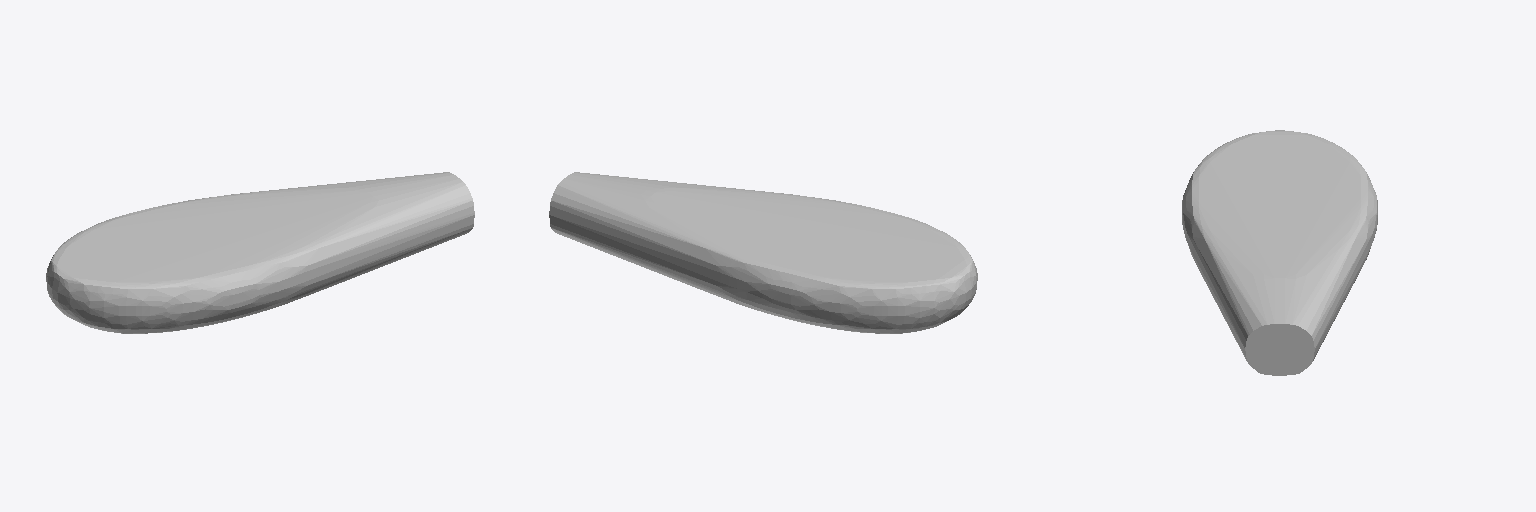
File: wooden-spoon_collision_1.obj
3 renders of one model, left to right at view 1: azimuth 30°, elevation 25°; view 2: azimuth 150°, elevation 25°; view 3: azimuth 270°, elevation 25°, orthographic.
Size of the model in its own units: 8.49 by 1.35 by 3.58.